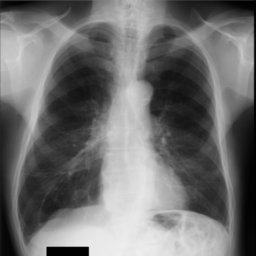left lobe: (145, 26, 228, 224)
right lobe: (19, 24, 115, 238)
